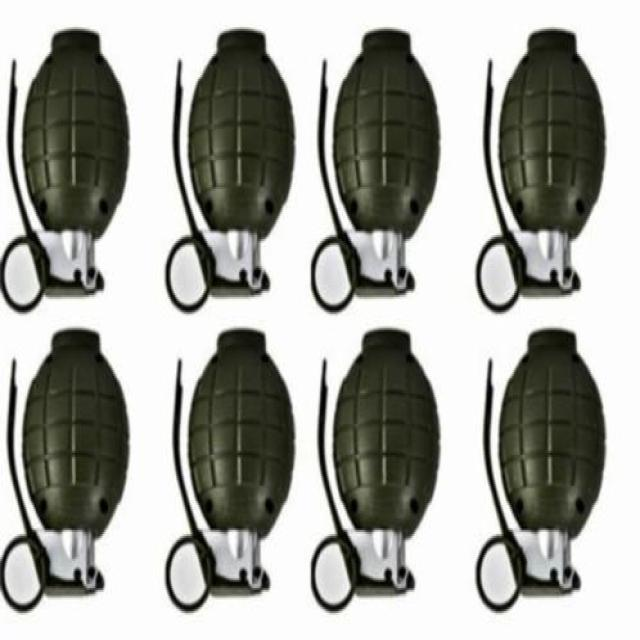grenade: (476, 327, 607, 614), (166, 327, 297, 612), (167, 26, 297, 313), (1, 26, 131, 313), (477, 28, 607, 313), (1, 327, 131, 612), (313, 28, 442, 313), (313, 325, 442, 606)
